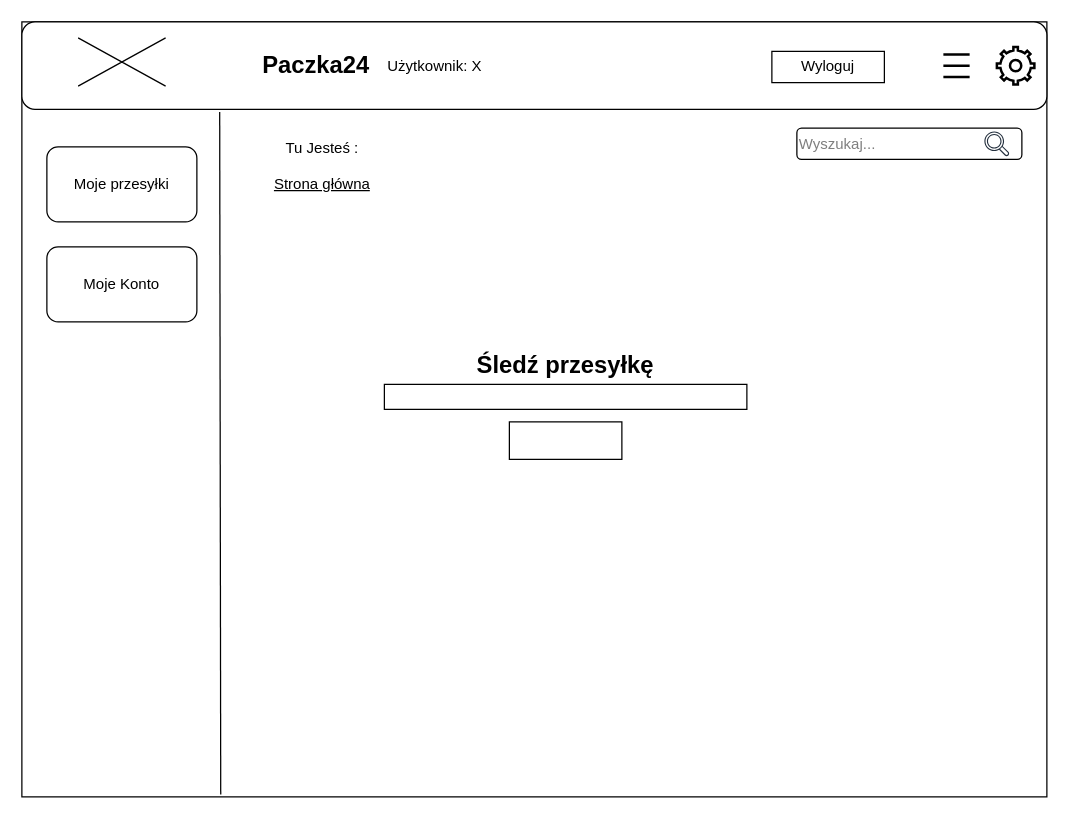
The diagram is 1069 pixels wide and 819 high, and some of its shapes have lost their labels. The centre of each missing label's shape, as x and y in pixels:
"Szukaj" belongs at (x=565, y=440).
"Wpisz numer przesyłki" belongs at (x=565, y=396).
